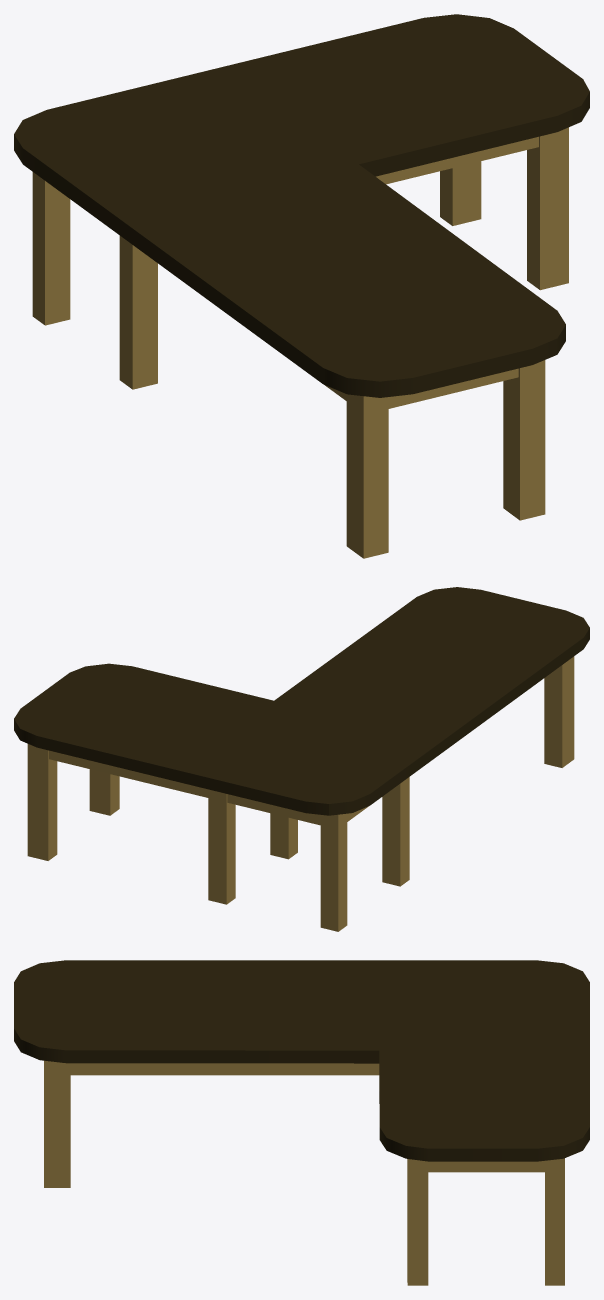
The model's file is table_02.fbx.
3 renders of one model, top to bottom at view 1: azimuth 30°, elevation 25°; view 2: azimuth 150°, elevation 25°; view 3: azimuth 270°, elevation 25°, orthographic. The views are drawn at different scales.
Parts seen in each view (by area): view 1: polySurface1, polySurface2; view 2: polySurface1, polySurface2; view 3: polySurface1, polySurface2.
Part boxes in pixels (<box>): polySurface1: <box>14,14,589,397</box>; polySurface2: <box>32,127,568,558</box>; polySurface1: <box>14,587,589,815</box>; polySurface2: <box>27,656,574,931</box>; polySurface1: <box>14,960,589,1161</box>; polySurface2: <box>44,1060,564,1285</box>.
Size of the model in its own units: 7.24 by 2.64 by 9.36.
